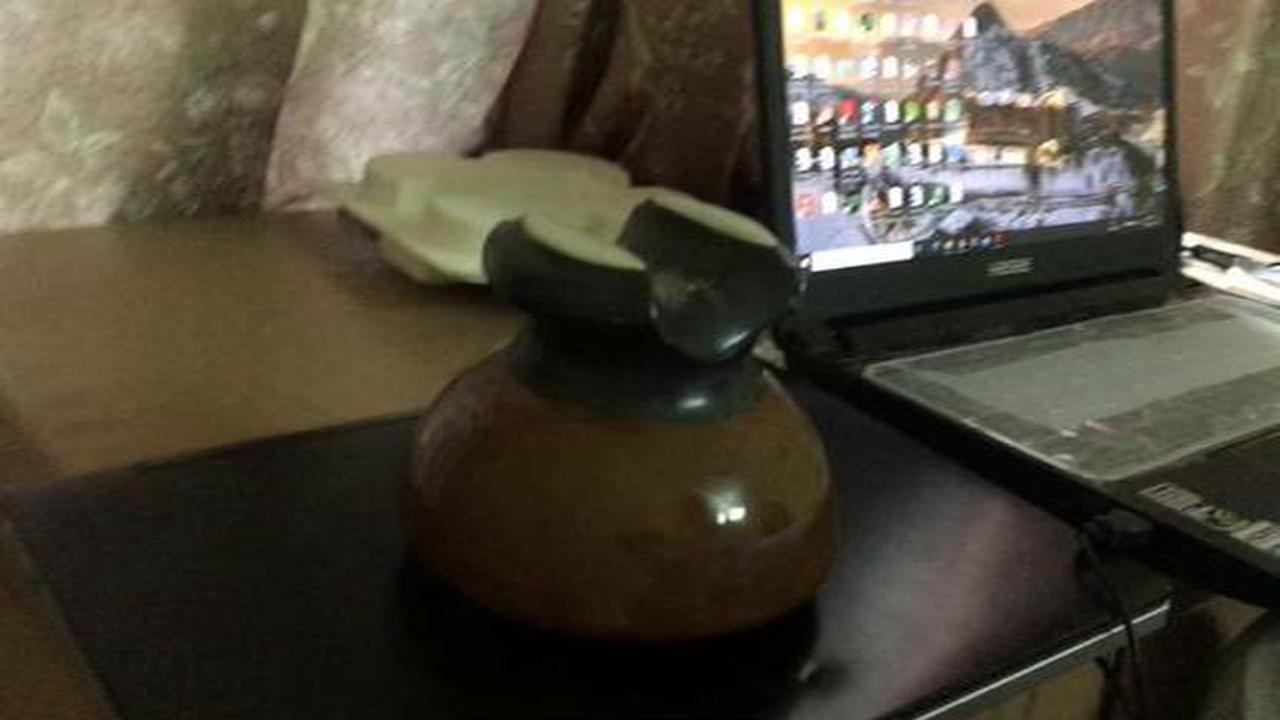insulator_pin: (376, 180, 868, 663)
